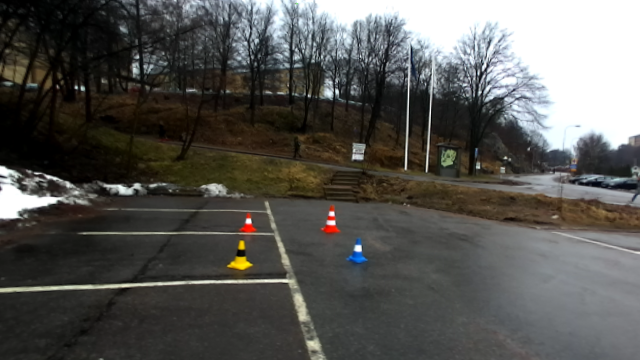blue: (344, 235, 369, 265)
orange: (238, 210, 257, 233)
orange2: (318, 204, 342, 235)
yellow: (226, 238, 254, 270)
